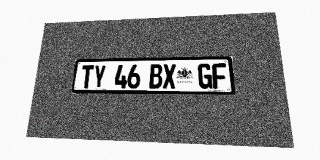4: (114, 65, 128, 89)
6: (127, 64, 141, 89)
B: (149, 64, 162, 89)
F: (212, 63, 227, 89)
G: (198, 63, 213, 89)
T: (80, 65, 94, 88)
X: (163, 64, 176, 89)
Y: (92, 65, 106, 88)
